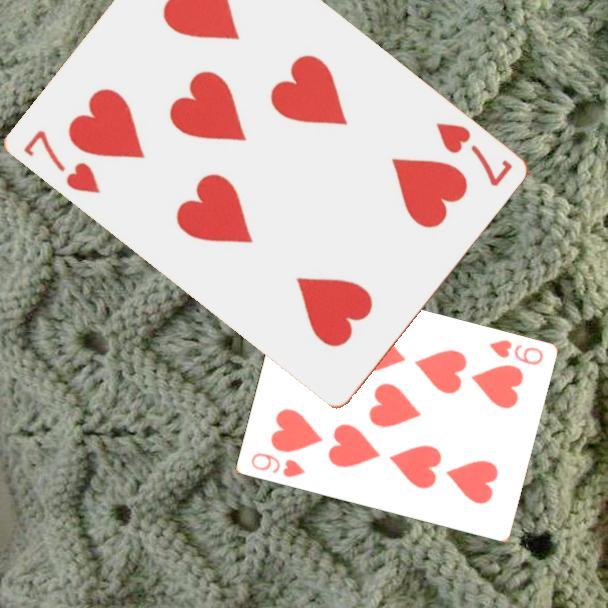h07: (19, 126, 103, 197), (431, 119, 515, 190)
h09: (485, 336, 546, 368), (247, 449, 308, 480)
